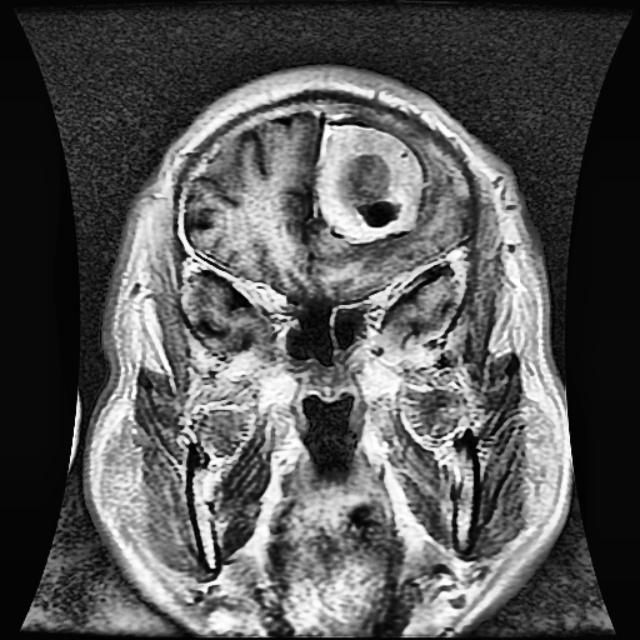Glioma: (317, 123, 422, 242)
